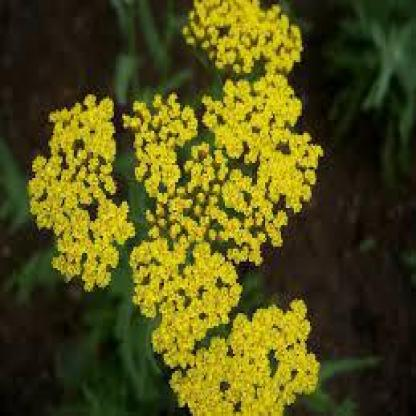other: (36, 79, 325, 277), (119, 251, 329, 411), (186, 3, 310, 81)
